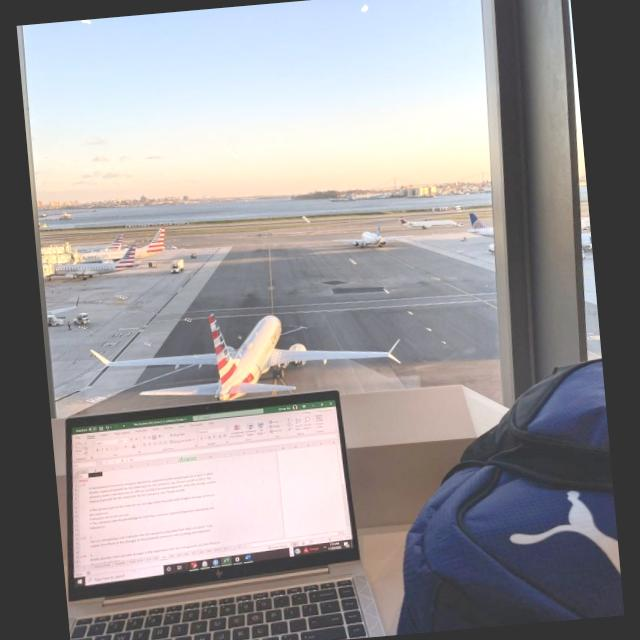laptop: (57, 378, 386, 640)
